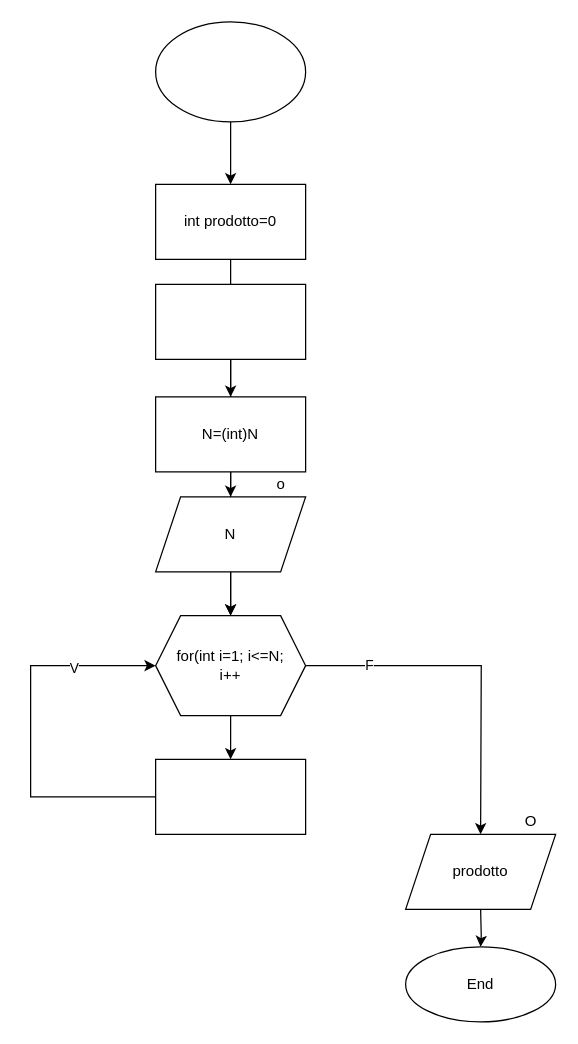
This 578x1044 diagram has some shape labels left out. The shapes that lost their labels are listed below. From the top down, each one's centre as x and y in pixels, then its label:
At (230,71): "Start".
At (230,321): "double N = Mathrandom()*100".
At (230,796): "prodotto*=1".
